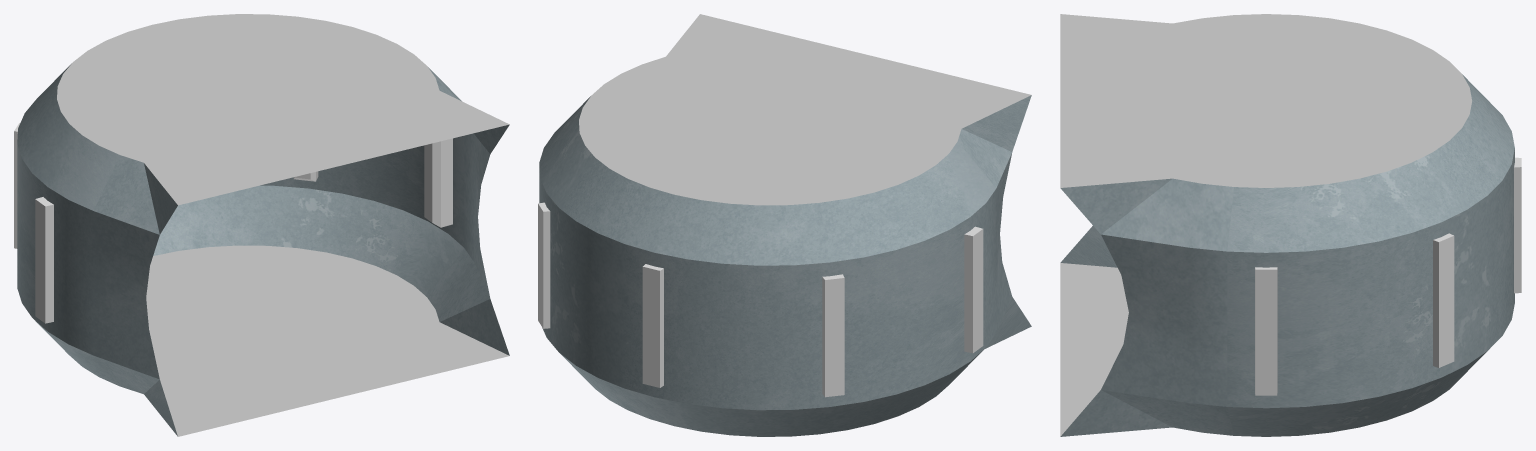
The model's file is Elevator.fbx.
The picture shows the model from 3 angles, left to right: view 1: azimuth 30°, elevation 25°; view 2: azimuth 150°, elevation 25°; view 3: azimuth 270°, elevation 25°; orthographic projection. The views are drawn at different scales.
Visible parts, largest first — view 1: pCylinder2; view 2: pCylinder2; view 3: pCylinder2.
Part boxes in pixels (bbox=[...]): pCylinder2: bbox=[14, 14, 509, 436]; pCylinder2: bbox=[538, 14, 1031, 436]; pCylinder2: bbox=[1060, 14, 1521, 436].
Size of the model in its own units: 7.46 by 4 by 6.72.
